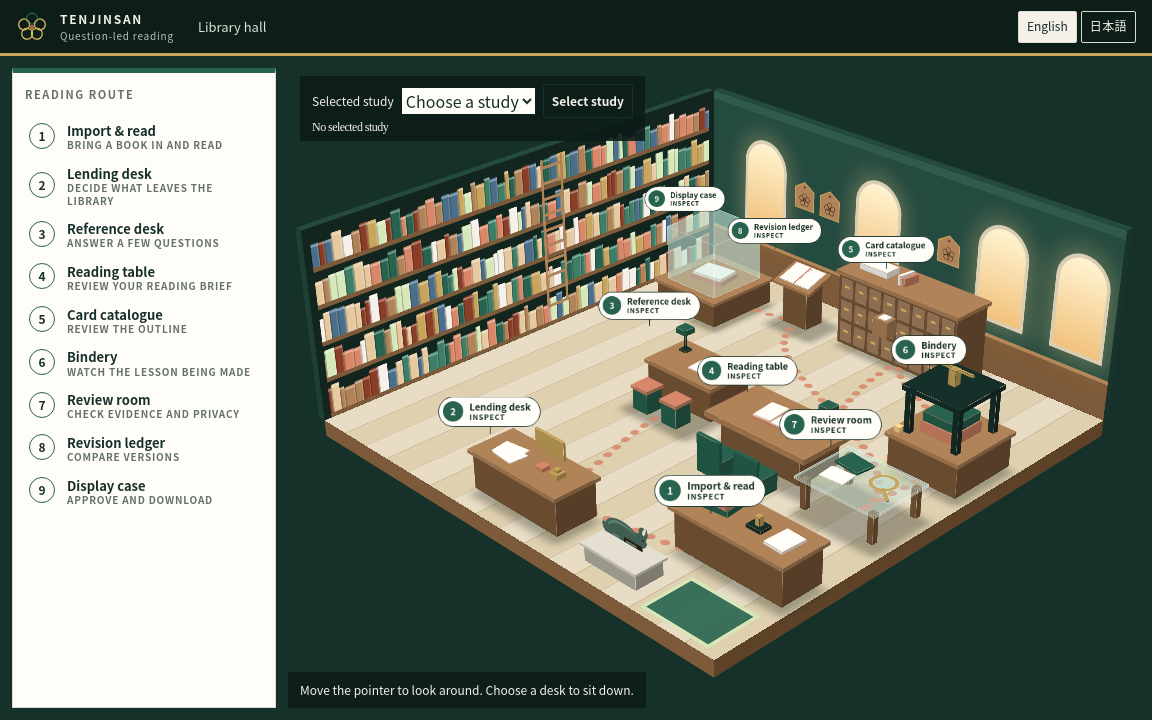
Test case: Given the language switch › When saving the choice throws Then the language still applies with an honest notice
Click the button "日本語" at (1108, 26), box [1081, 10, 1136, 42]
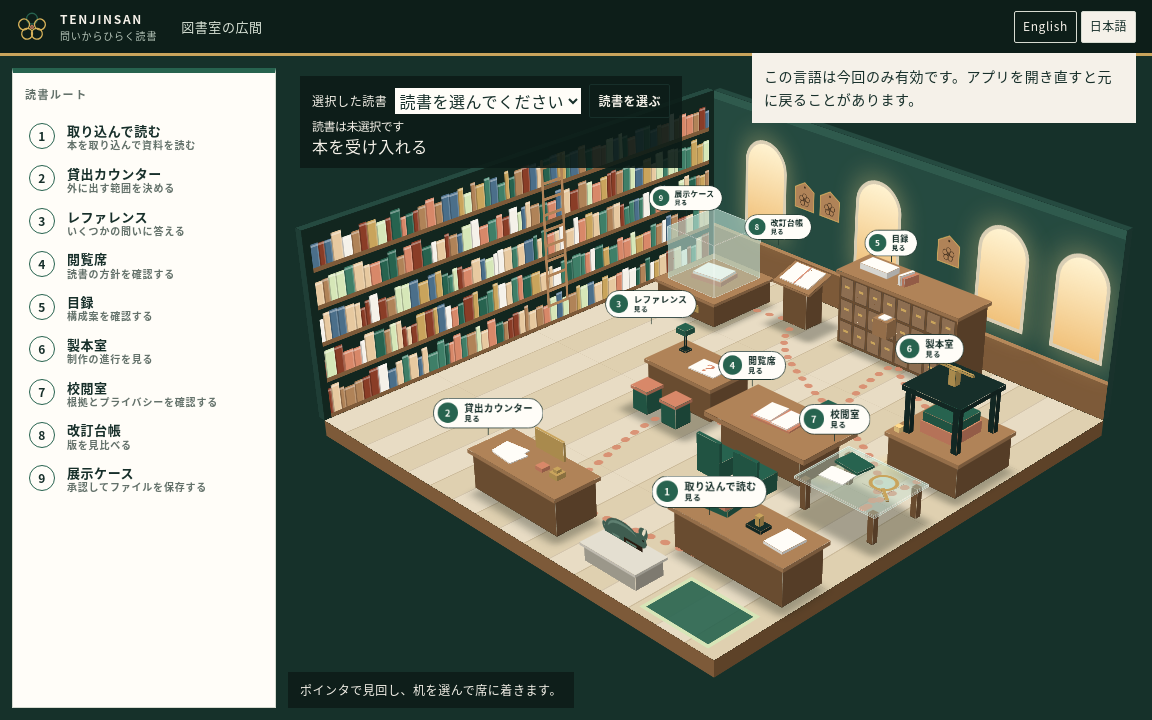
expect the navigation bar "読書ルート" is shown: met, box [12, 68, 276, 708]
expect the message shows "開き直す": met, box [764, 66, 1112, 109]
